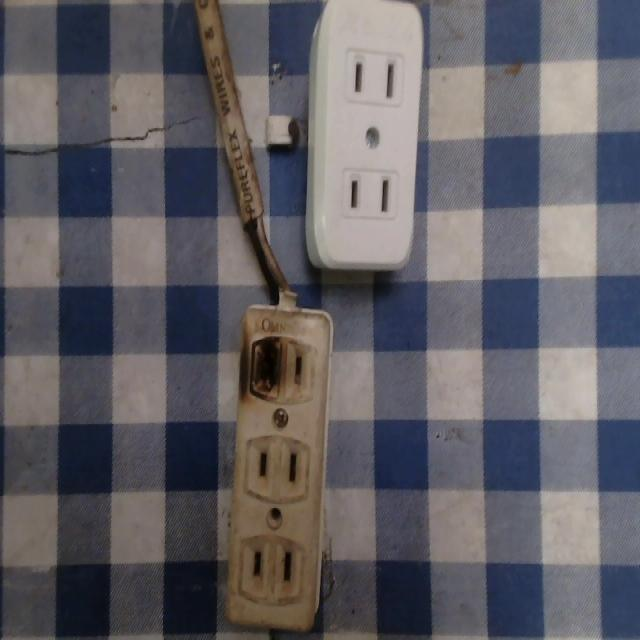-: (243, 329, 286, 403)
